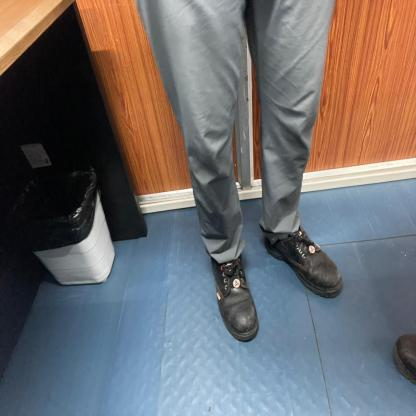bota: (264, 226, 344, 300), (210, 251, 259, 344)
